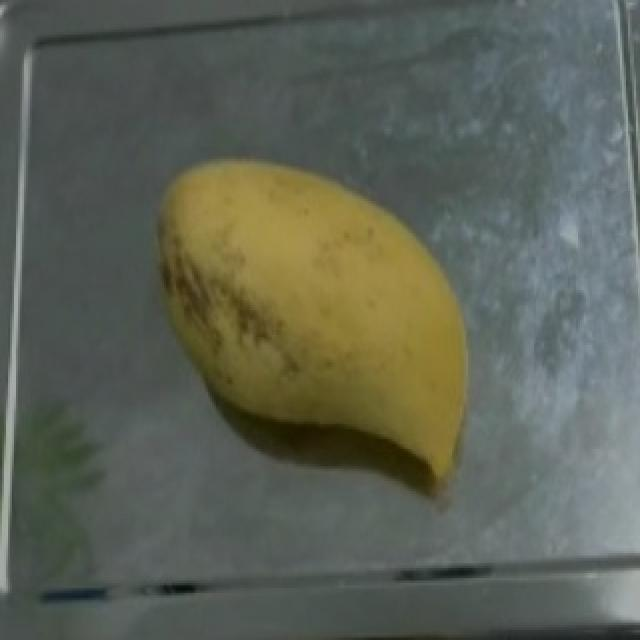fruit: (146, 139, 496, 469)
